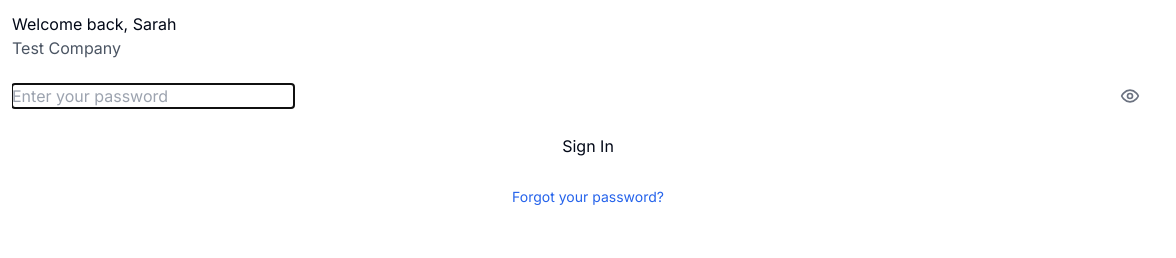
Test: LoginForm › error handling › should display incorrect password error for 401 response
Type "WrongPassword" into the password field with placeholder "Enter your password" at (153, 96), box [12,84,294,108]
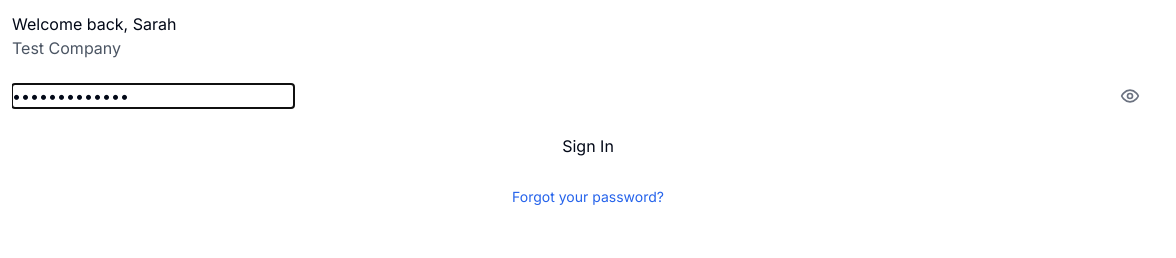
Click the button "Sign In" at (588, 146), box [12,124,1164,168]
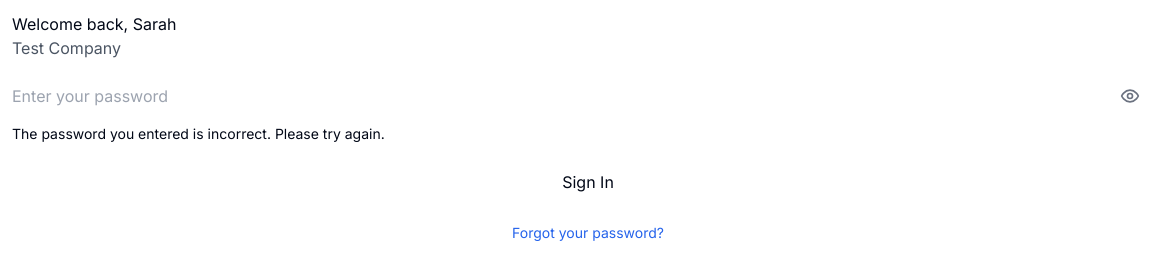
Now the message with test id "login-error" reads "The password you entered is incorrect. Please try again.", box [12,125,385,142]
